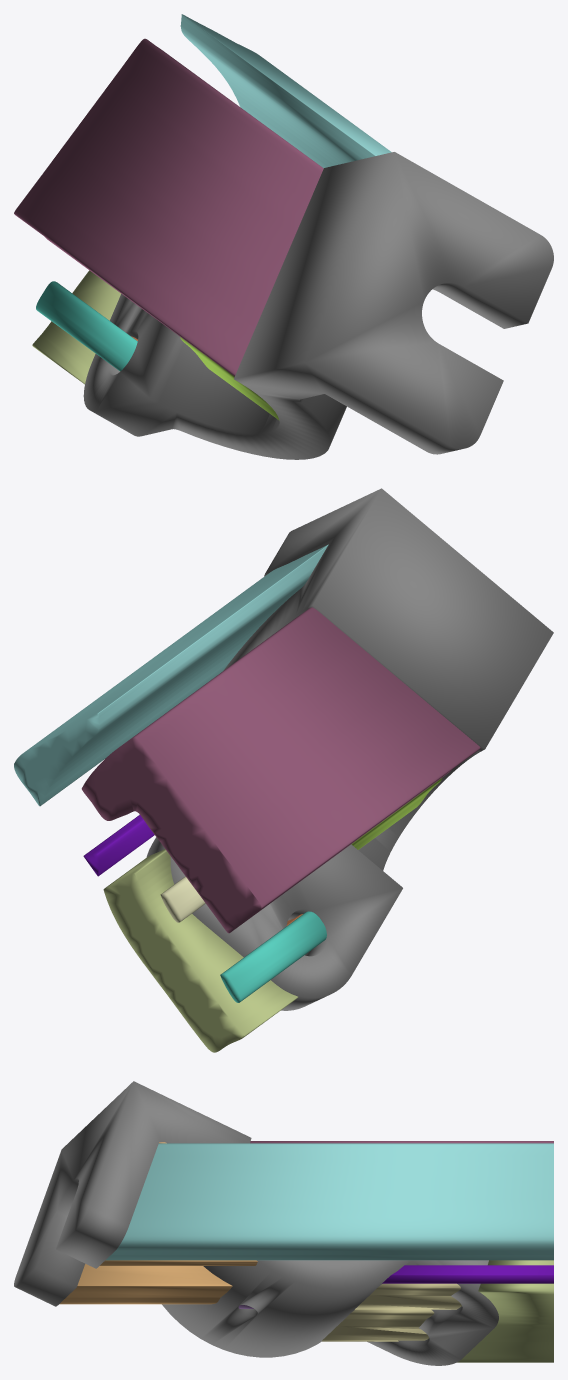
Rendered from overhangSupport.glb.
The picture shows the model from 3 angles, top to bottom: view 1: azimuth 30°, elevation 25°; view 2: azimuth 150°, elevation 25°; view 3: azimuth 270°, elevation 25°; orthographic projection. The views are drawn at different scales.
Parts seen in each view (by area): view 1: frameGuide.stl, world; view 2: world, frameGuide.stl; view 3: world, frameGuide.stl.
Boxes of the visible parts, x1,y1,x2,y2 form: frameGuide.stl: [83, 152, 553, 459]; world: [14, 14, 391, 420]; world: [14, 544, 480, 1052]; frameGuide.stl: [146, 488, 553, 1010]; world: [59, 1141, 553, 1362]; frameGuide.stl: [14, 1081, 498, 1365].
Size of the model in its own units: 60.21 by 84.75 by 129.
